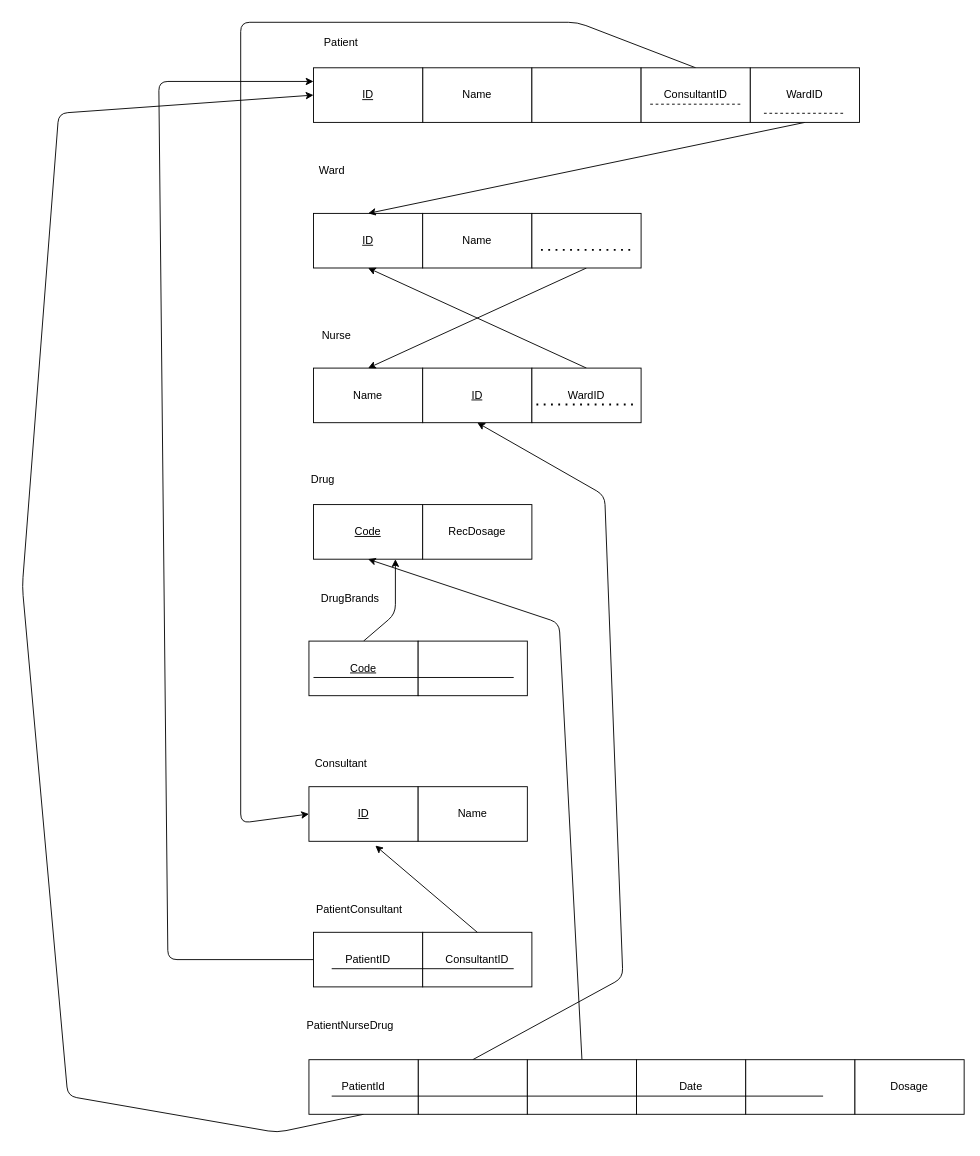
The diagram is 980 pixels wide and 1156 high, and some of its shapes have lost their labels. Here are the shapes that lost their labels. From the top down, the centre of each, then its label:
At [586,94]: "BOD".
At [586,240]: "SuperviseNurseID".
At [472,668]: "Brand".
At [472,1086]: "NurseID".
At [581,1086]: "DrugCode".
At [800,1086]: "Time".
